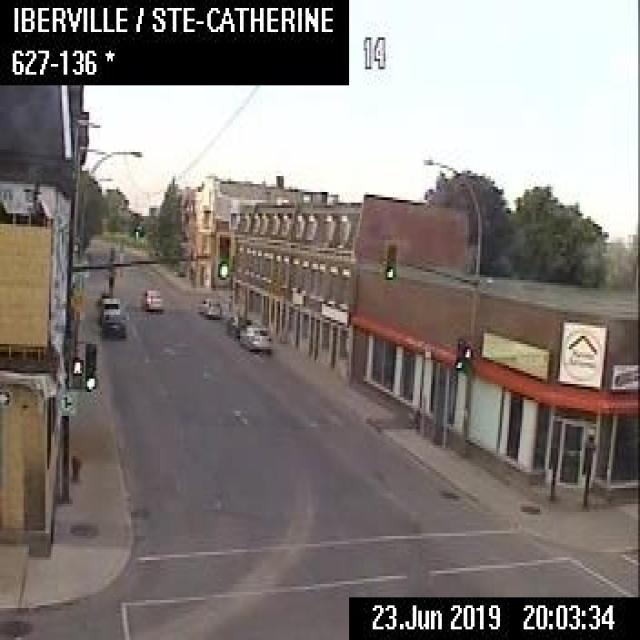vehicle: (238, 322, 270, 349), (101, 312, 125, 339), (225, 313, 251, 337), (138, 285, 162, 309), (198, 294, 220, 316), (100, 294, 120, 318)
